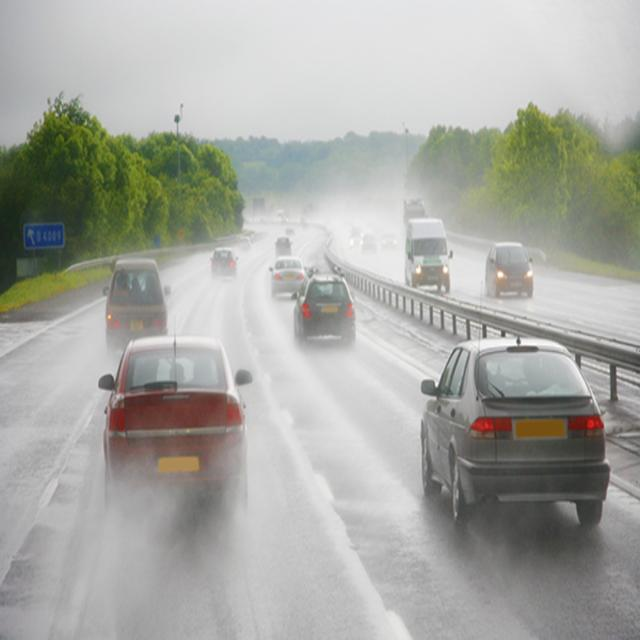car: (416, 335, 614, 533), (99, 337, 249, 499), (104, 258, 168, 364), (295, 274, 357, 346), (405, 222, 451, 296), (483, 242, 534, 300), (269, 256, 308, 300), (210, 248, 238, 276), (237, 236, 255, 257), (381, 234, 399, 252), (274, 238, 292, 255), (361, 235, 376, 253), (348, 234, 363, 248)
